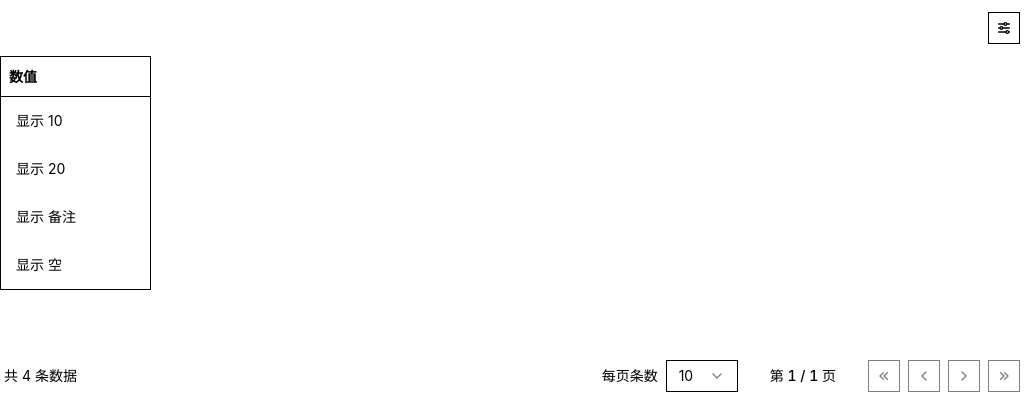
DataTable cell selection › 汇总混合选区的原始值，选中包含空值且平均只使用数字数量
Press the mouse on the cell "显示 10" at (39,120), box [0,97,150,145]
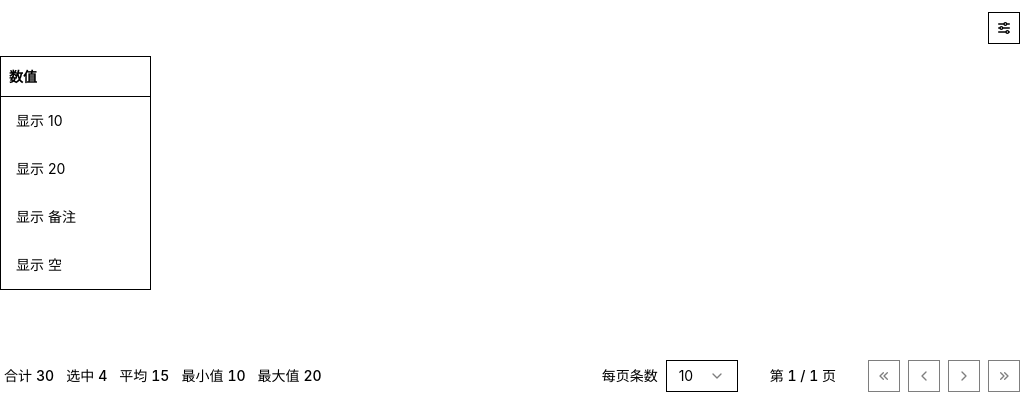
Expected: the buttons read "合计30", "选中4", "平均15", "最小值10", "最大值20", in this order
Hover over the button with aria-label "选中：4" at (87,376), box [66,366,107,386]
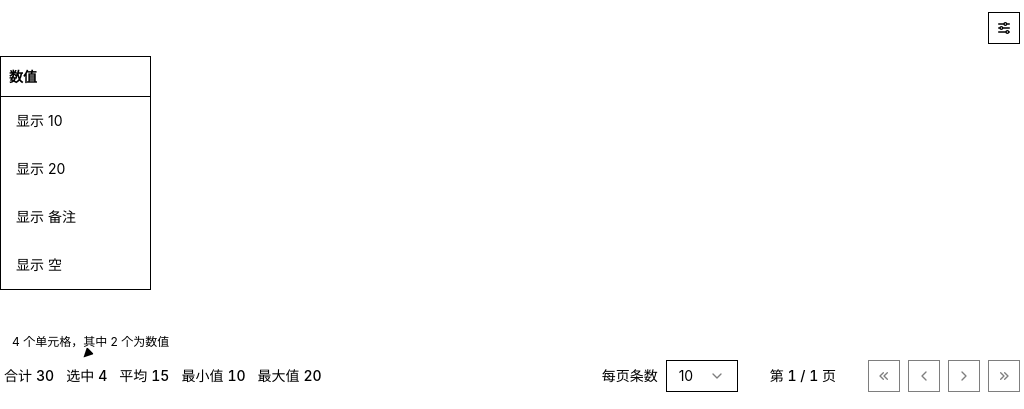
Expected: the tooltip reads "4 个单元格，其中 2 个为数值", [12,334,169,349]
